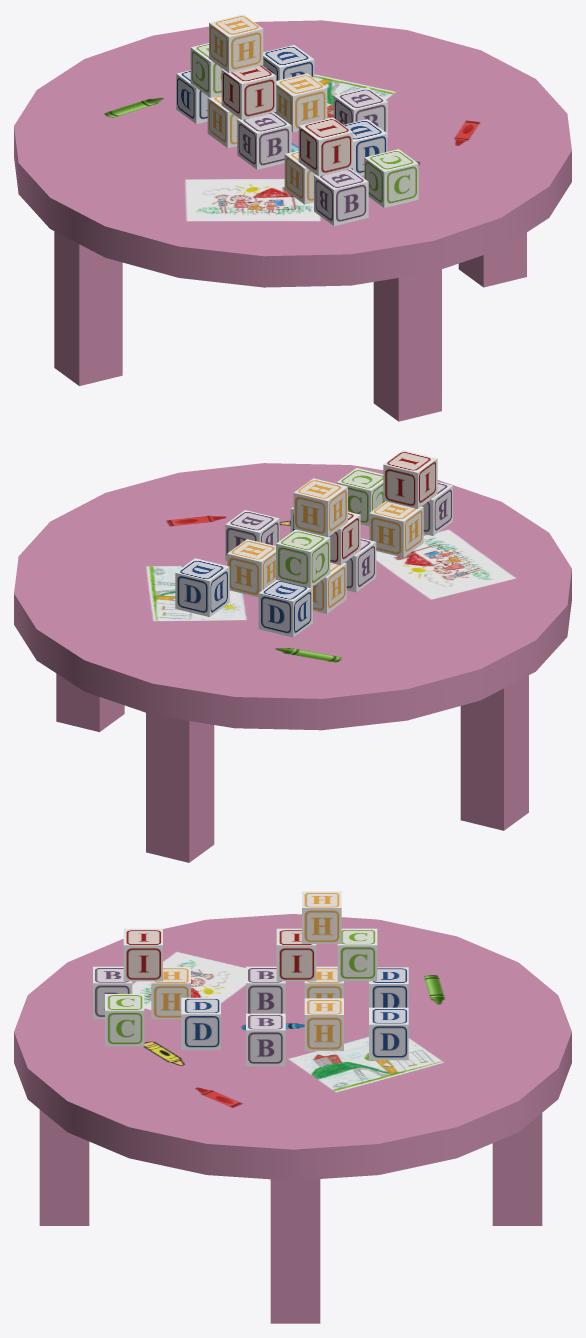
File: Mesa.obj
The picture shows the model from 3 angles, top to bottom: view 1: azimuth 30°, elevation 25°; view 2: azimuth 150°, elevation 25°; view 3: azimuth 270°, elevation 25°; orthographic projection.
Visible parts, largest first — view 1: Mesa:pasted__pasted__pCube1, pasted__pasted__group1_pasted__pasted__pasted__pCube1; view 2: Mesa:pasted__pasted__pCube1, pasted__pasted__group1_pasted__pasted__pasted__pCube1; view 3: Mesa:pasted__pasted__pCube1, pasted__pasted__group1_pasted__pasted__pasted__pCube1.
Boxes of the visible parts, bbox=[...] form: Mesa:pasted__pasted__pCube1: bbox=[14, 20, 571, 421]; pasted__pasted__group1_pasted__pasted__pasted__pCube1: bbox=[176, 14, 418, 225]; Mesa:pasted__pasted__pCube1: bbox=[14, 463, 571, 862]; pasted__pasted__group1_pasted__pasted__pasted__pCube1: bbox=[175, 450, 452, 637]; Mesa:pasted__pasted__pCube1: bbox=[14, 914, 571, 1323]; pasted__pasted__group1_pasted__pasted__pasted__pCube1: bbox=[93, 891, 408, 1066].
Bounding box in the file's own units: 1.06 × 0.6174 × 1.06.
Materials: 15 (15 with a texture image).
